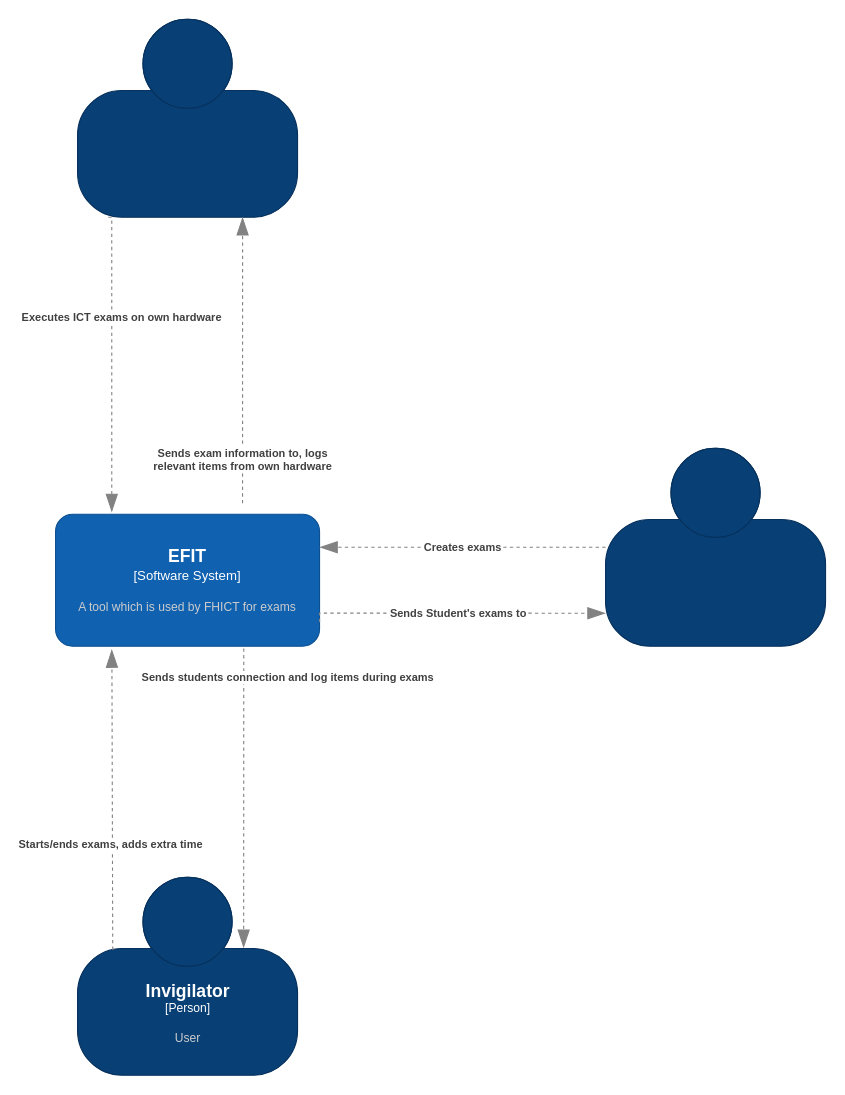
The diagram is 845 pixels wide and 1095 high, and some of its shapes have lost their labels. Each missing label, with the box of its shape:
Student [Person] User: (76, 18, 298, 217)
Teacher [Person] User: (604, 447, 826, 646)
